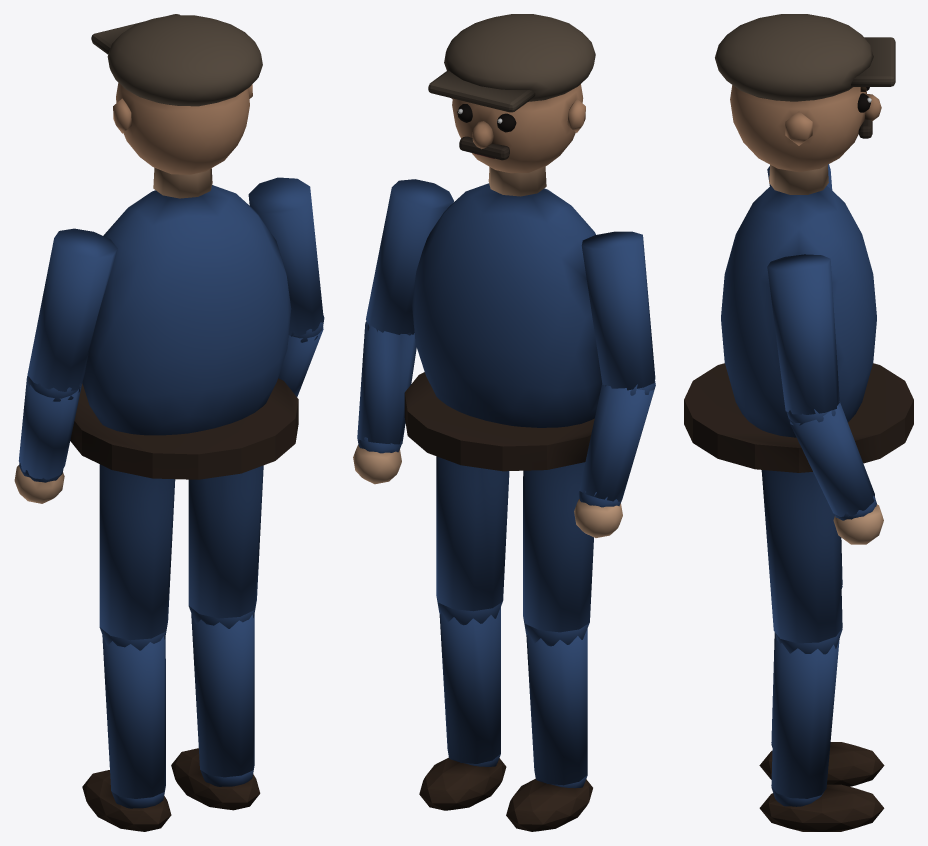
File: villager_man.glb
3 renders of one model, left to right at view 1: azimuth 30°, elevation 25°; view 2: azimuth 150°, elevation 25°; view 3: azimuth 270°, elevation 25°, orthographic. The views are drawn at different scales.
Parts seen in each view (by area): view 1: limb; view 2: limb; view 3: limb.
Boxes of the visible parts, left/top/right/bottom form: limb: left=14, top=14, right=324, bottom=831; limb: left=353, top=14, right=655, bottom=831; limb: left=684, top=14, right=913, bottom=831.
Size of the model in its own units: 0.7189 by 1.87 by 0.5.
